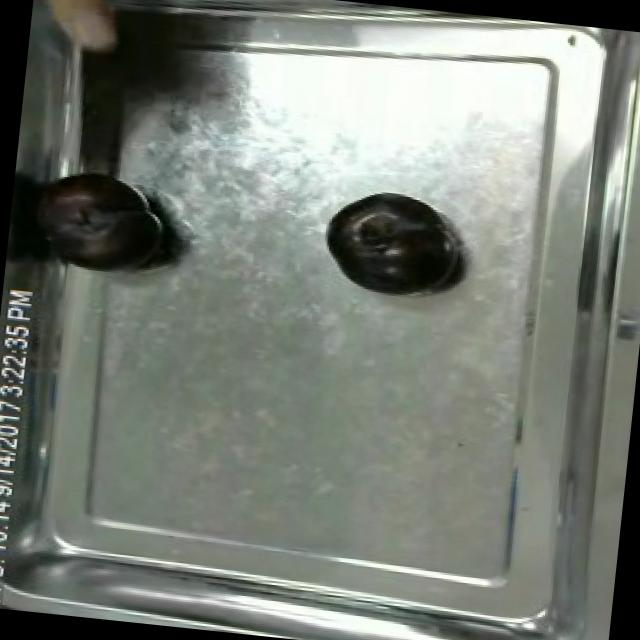Fruit: (12, 162, 180, 286), (316, 184, 462, 306)
